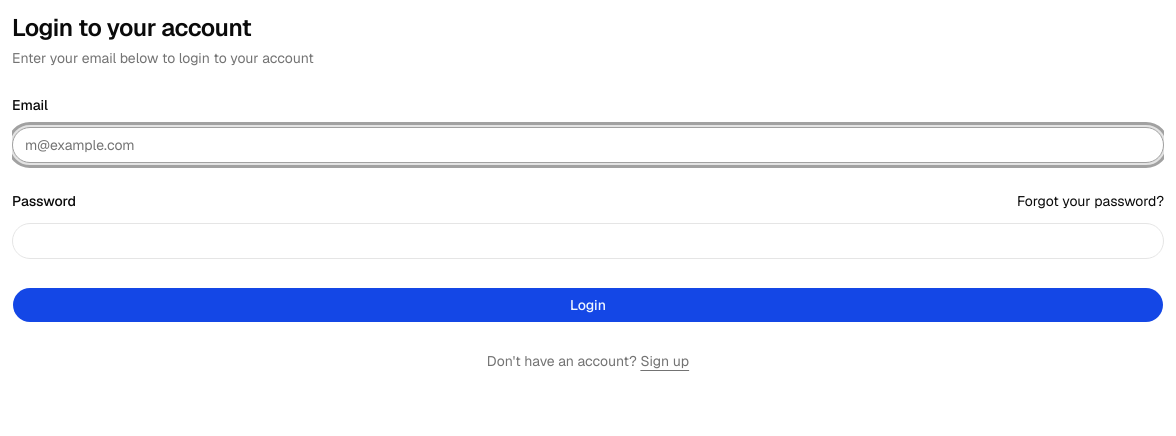
Test: LoginForm › shows inline error when the action returns one
Type "bad@example.com" into the field labelled "Email" at (588, 145), box [12,127,1164,163]
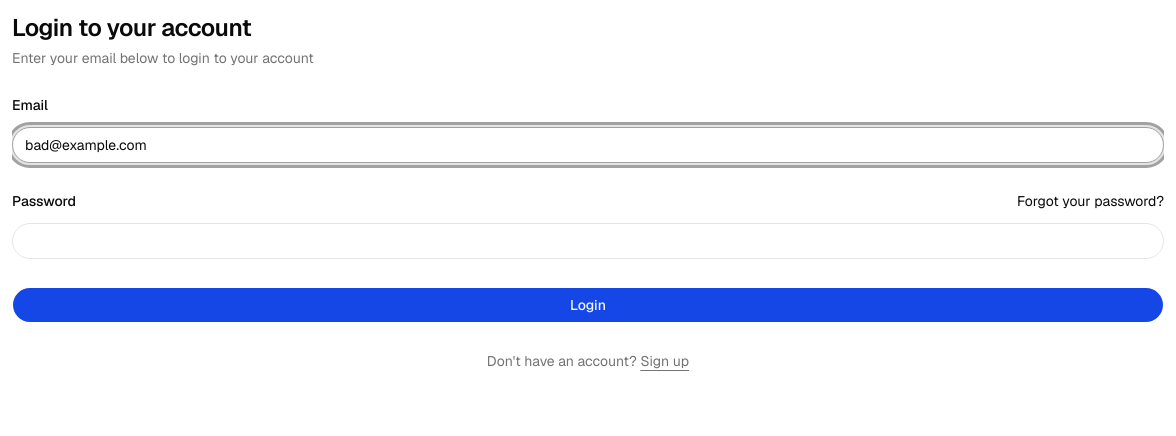
Type "wrong-password" into the password field labelled "Password" at (588, 241), box [12,223,1164,259]
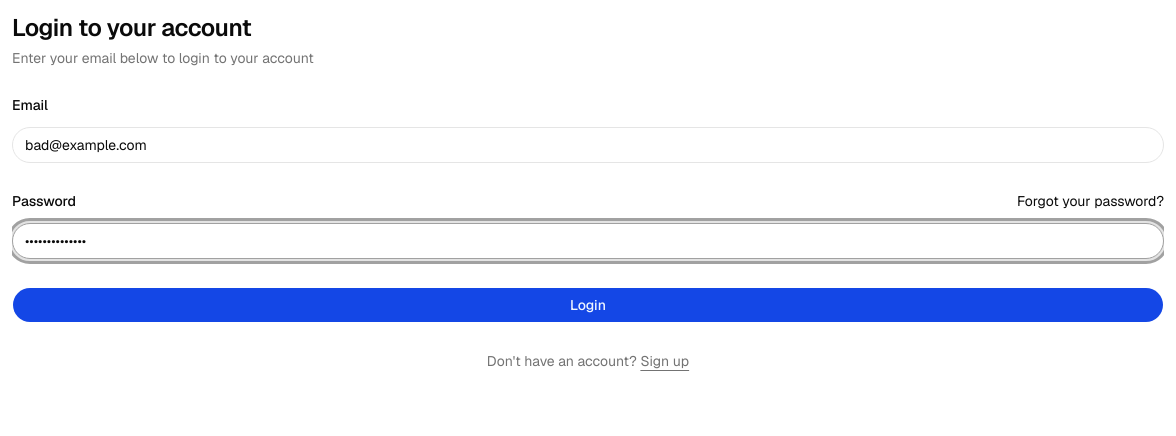
Click the button "Login" at (588, 305), box [12,287,1164,323]
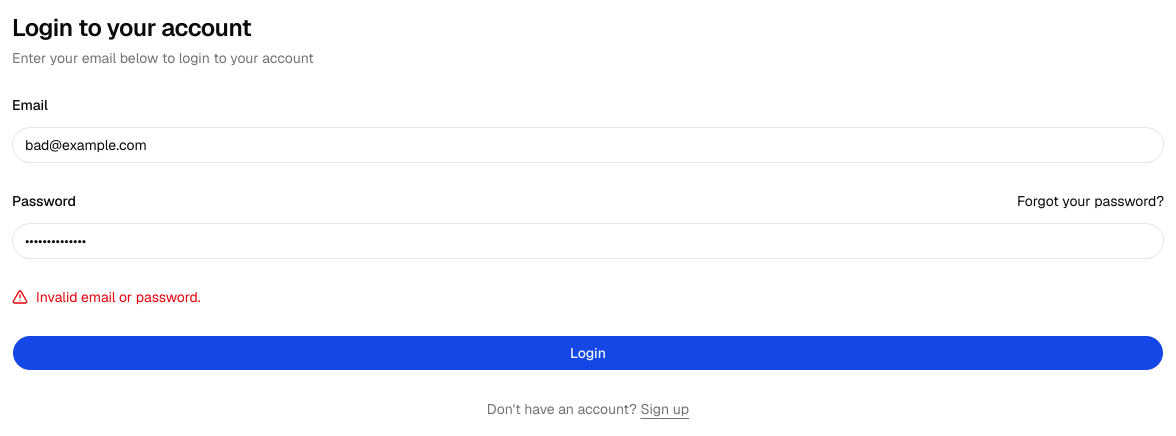
Expected: the text "Invalid email or password." is shown, [12,288,201,306]
